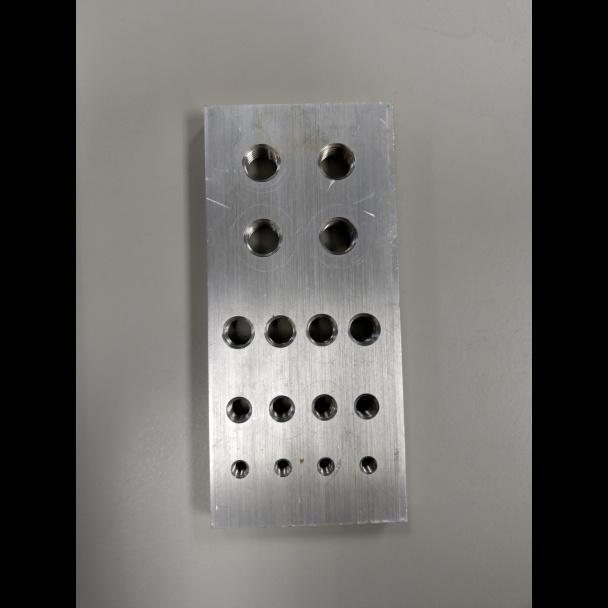hole: (242, 216, 284, 257), (240, 142, 282, 182), (317, 215, 359, 255), (317, 141, 356, 181), (346, 311, 383, 346), (221, 314, 256, 350), (263, 314, 298, 349), (304, 312, 339, 347), (267, 394, 296, 423), (352, 392, 381, 421), (224, 395, 253, 423), (310, 392, 338, 421), (229, 458, 250, 479), (272, 457, 293, 478), (357, 455, 379, 475), (316, 456, 336, 476)
